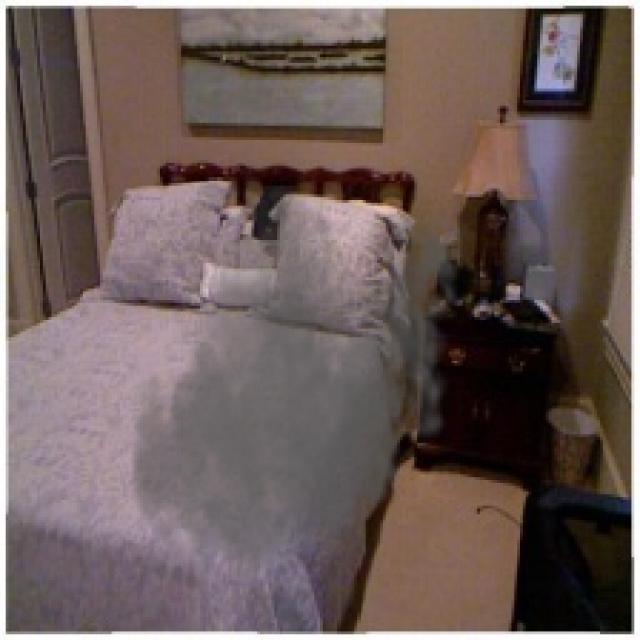Smoke: (122, 185, 468, 600)
